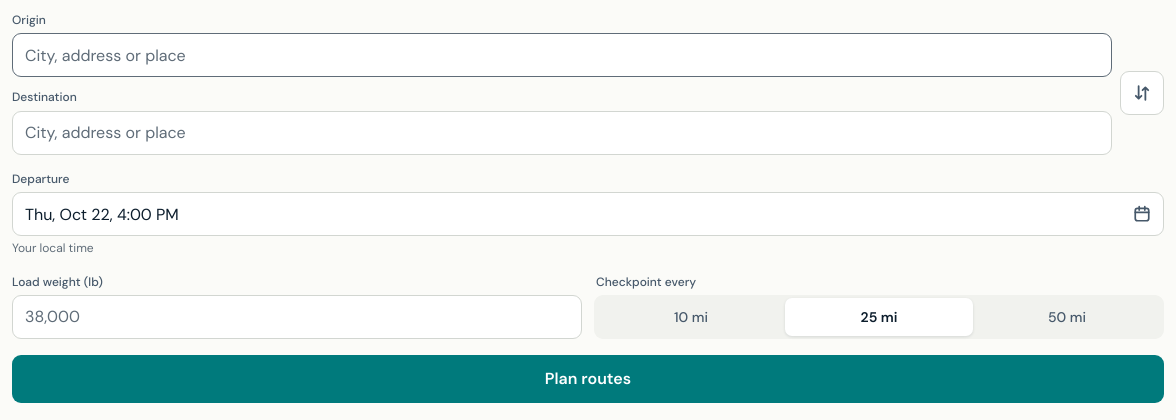
TripForm › swaps the origin and destination
The image size is (1176, 420).
Type "Seattle" into the dropdown labelled "Origin" at (562, 55), box [12, 33, 1112, 77]
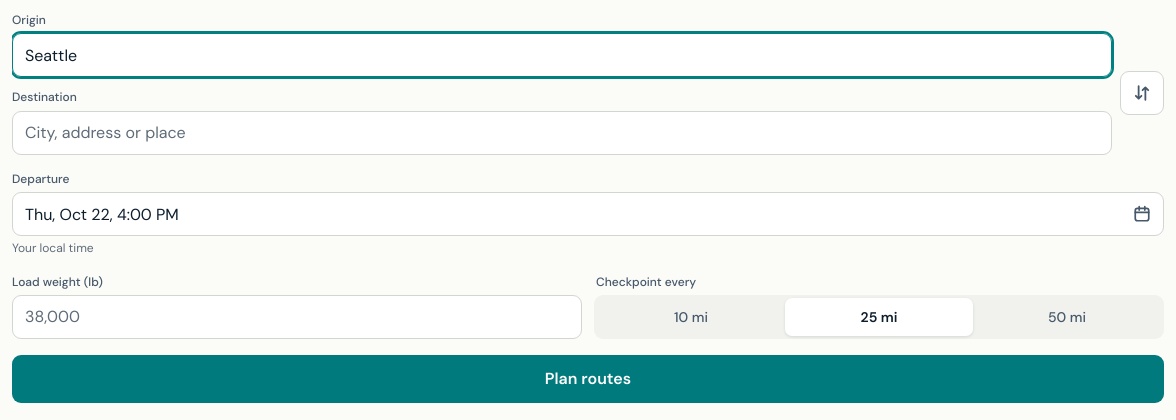
Type "Boise" into the dropdown labelled "Destination" at (562, 133), box [12, 111, 1112, 155]
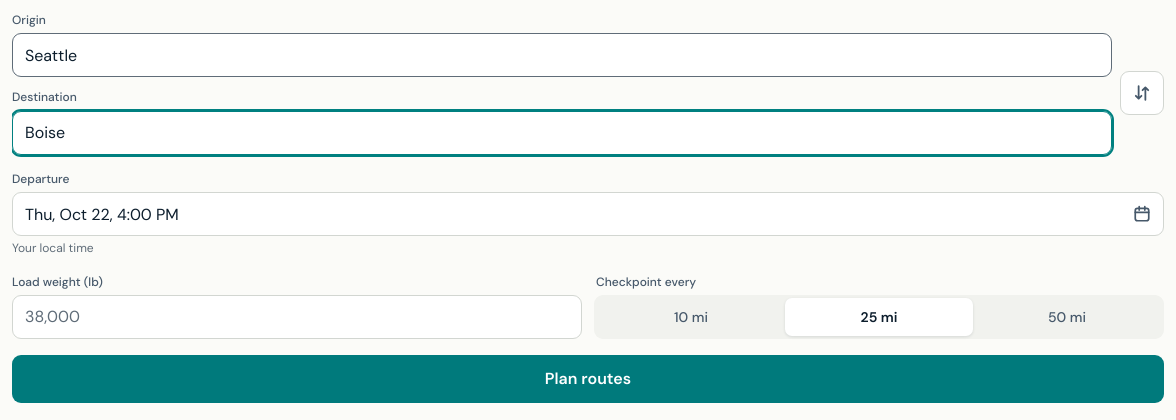
Click the button named "Swap origin and destination" at (1142, 93), box [1120, 71, 1164, 115]
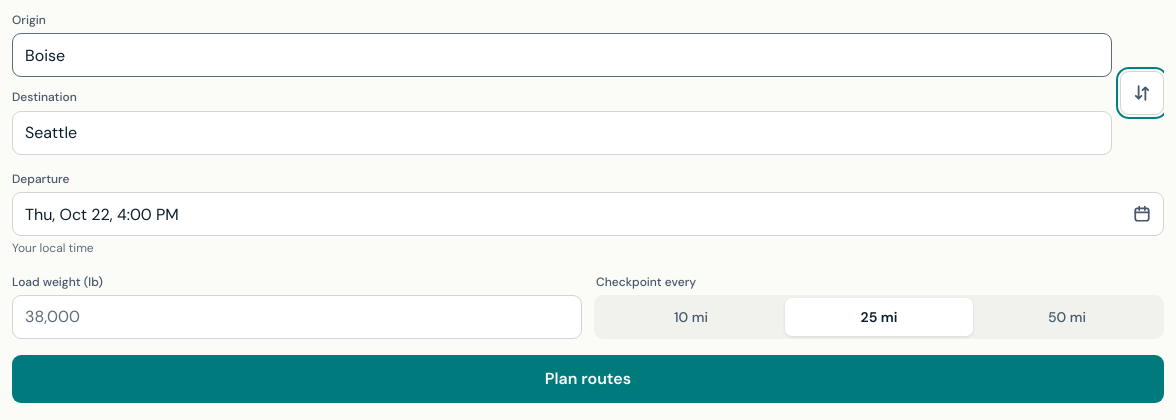
Expected: the dropdown labelled "Origin" holds "Boise", [12, 33, 1112, 77]
Expected: the dropdown labelled "Destination" holds "Seattle", [12, 111, 1112, 155]
